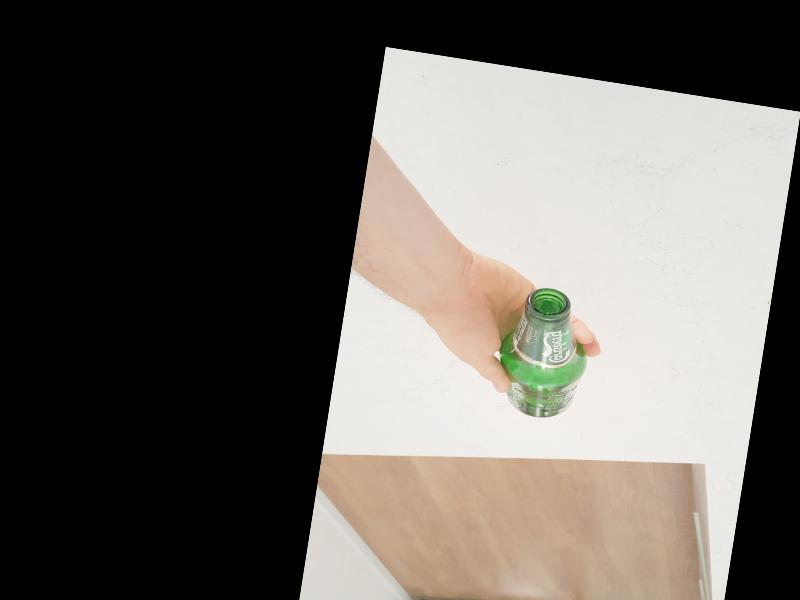Beer: (491, 282, 596, 424)
